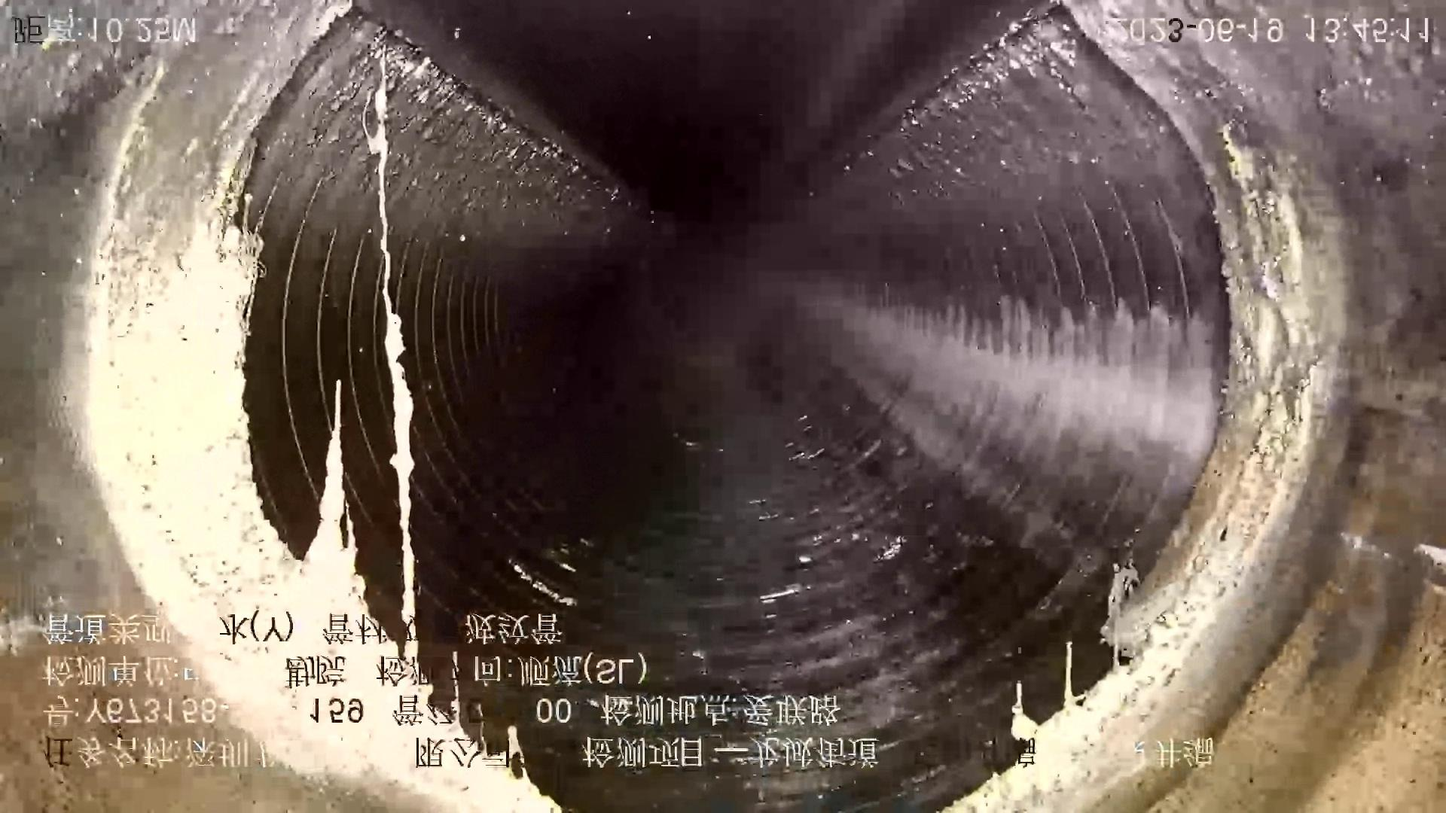JKCL: (68, 42, 571, 813), (937, 97, 1352, 813)
